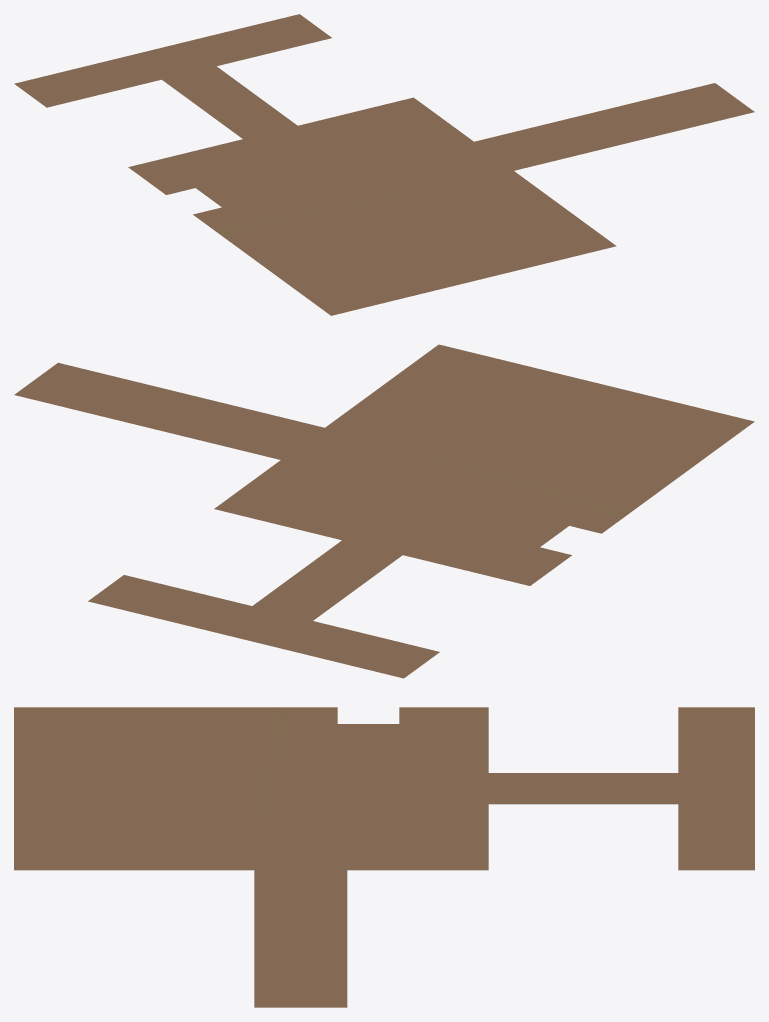
The model's file is L1Floor3.obj.
3 renders of one model, top to bottom at view 1: azimuth 30°, elevation 25°; view 2: azimuth 150°, elevation 25°; view 3: azimuth 270°, elevation 25°, orthographic. The views are drawn at different scales.
Visible parts, largest first — view 1: L1Floor:Mesh; view 2: L1Floor:Mesh; view 3: L1Floor:Mesh.
Boxes of the visible parts, x1,y1,x2,y2 form: L1Floor:Mesh: (14, 14, 754, 315); L1Floor:Mesh: (14, 344, 754, 678); L1Floor:Mesh: (14, 707, 754, 1007).
Bounding box in the file's own units: 23.97 × 4.05e-06 × 25.
Materials: 1 (1 with a texture image).
